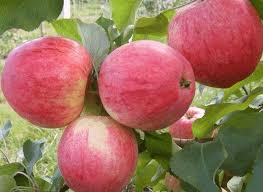Apple: (99, 39, 195, 131), (167, 0, 263, 88), (2, 35, 92, 128), (57, 116, 138, 192), (166, 106, 216, 157)
